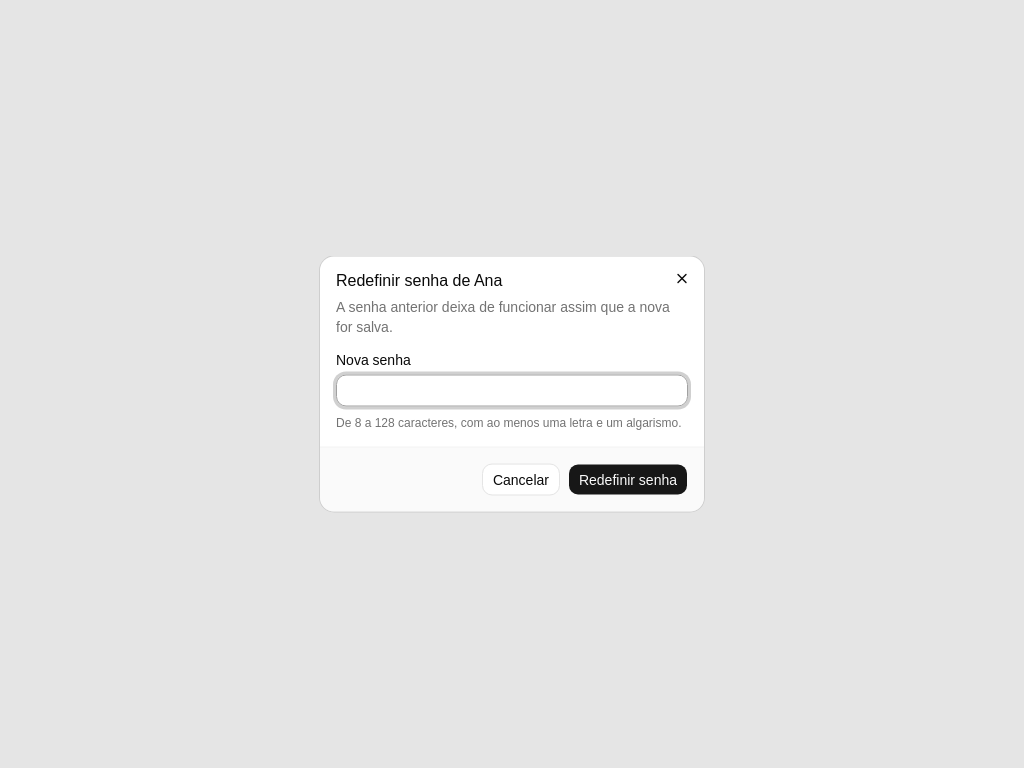
Test case: ResetPasswordDialog (WF6, BR3.4, BR3.7) › refuses a password outside the policy without sending it
Type "abcdefgh" into the password field labelled "Nova senha".
click(512, 390); type("abcdefgh")  # box [336,374,688,406]
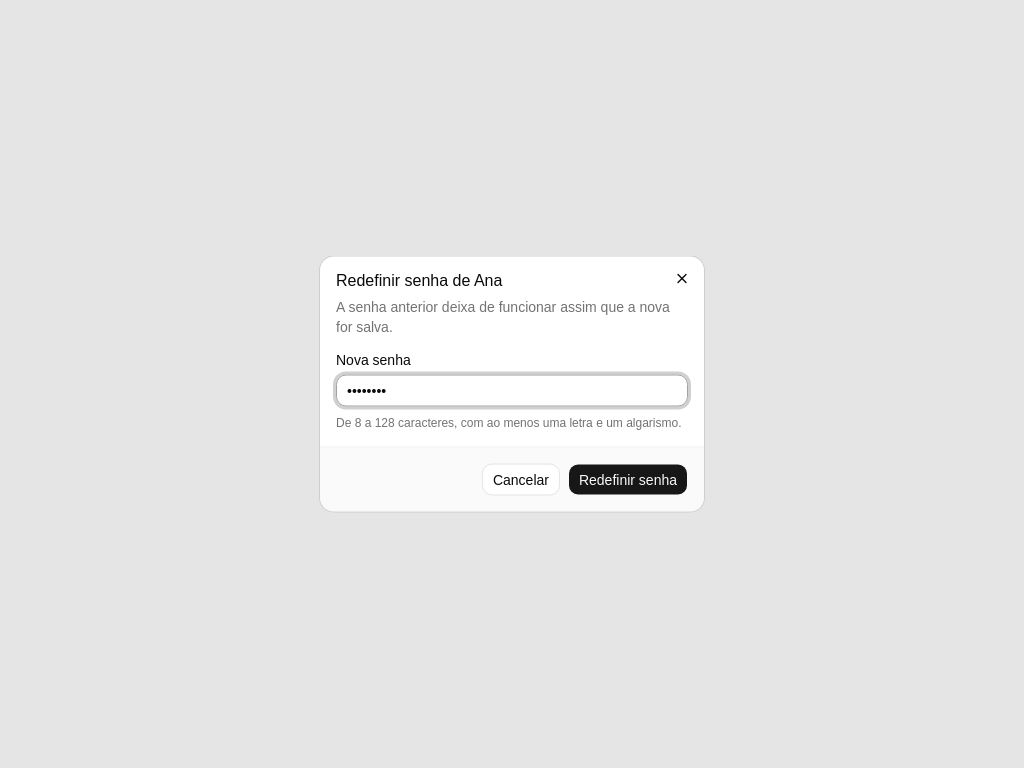
Click the button "Redefinir senha".
click(628, 480)  # box [568,464,688,496]
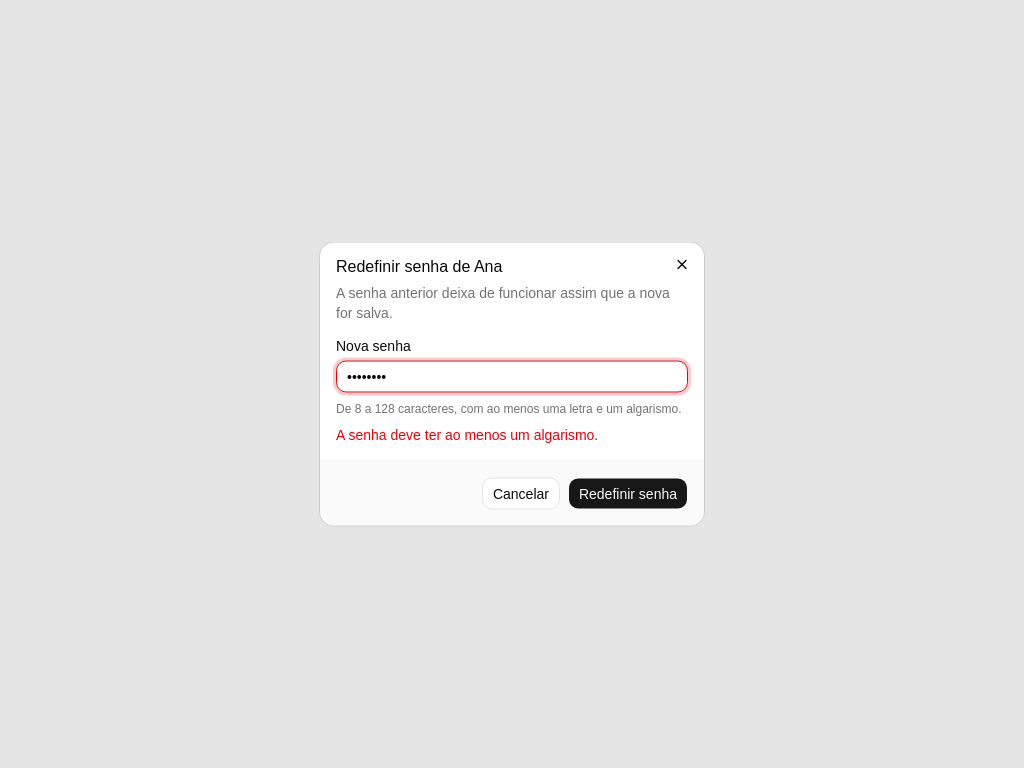
Result: the text "A senha deve ter ao menos um algarismo." is shown at [336,426,598,442]
